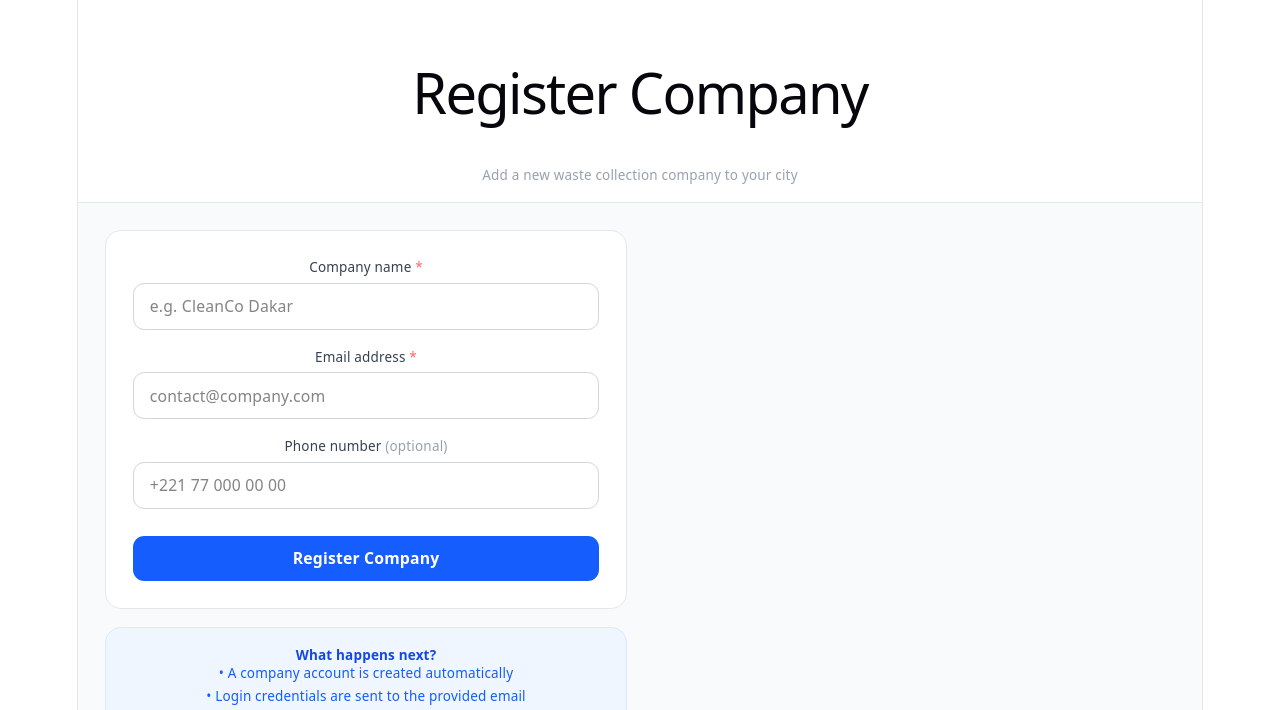
Test: CompanyRegistrationPage — US-M08 company registration › shows error message on 409 conflict
In the field with test id "input-name": point(366, 306) top-left (133, 283), bottom-right (599, 330), type "CleanCo"
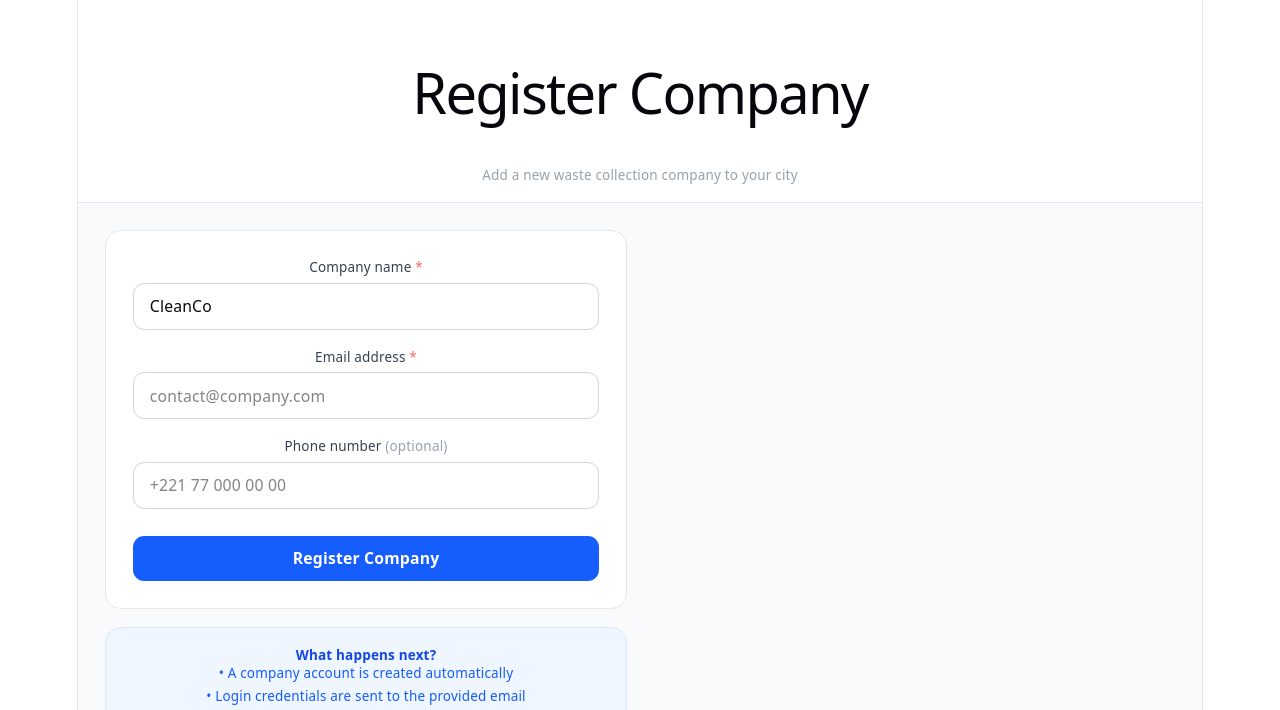
In the field with test id "input-email": point(366, 396) top-left (133, 372), bottom-right (599, 420), type "existing@co.sn"
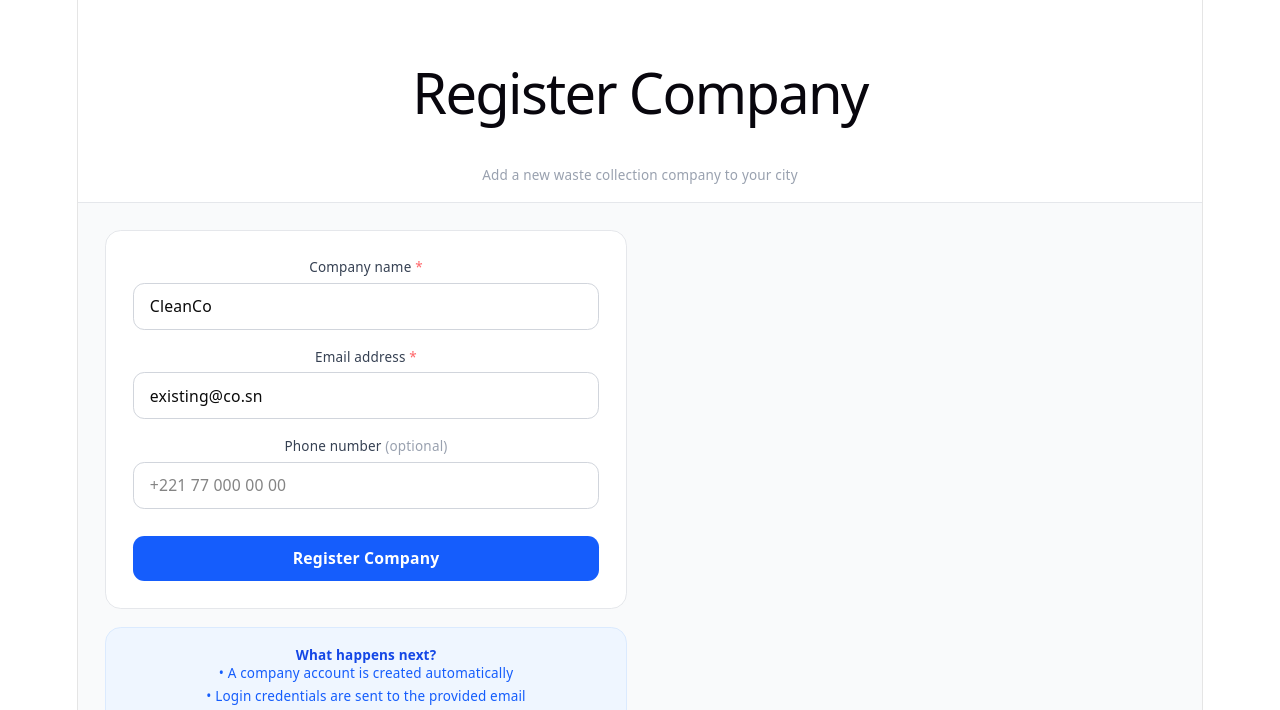
Click the button with test id "btn-submit": point(366, 559) top-left (133, 536), bottom-right (599, 581)
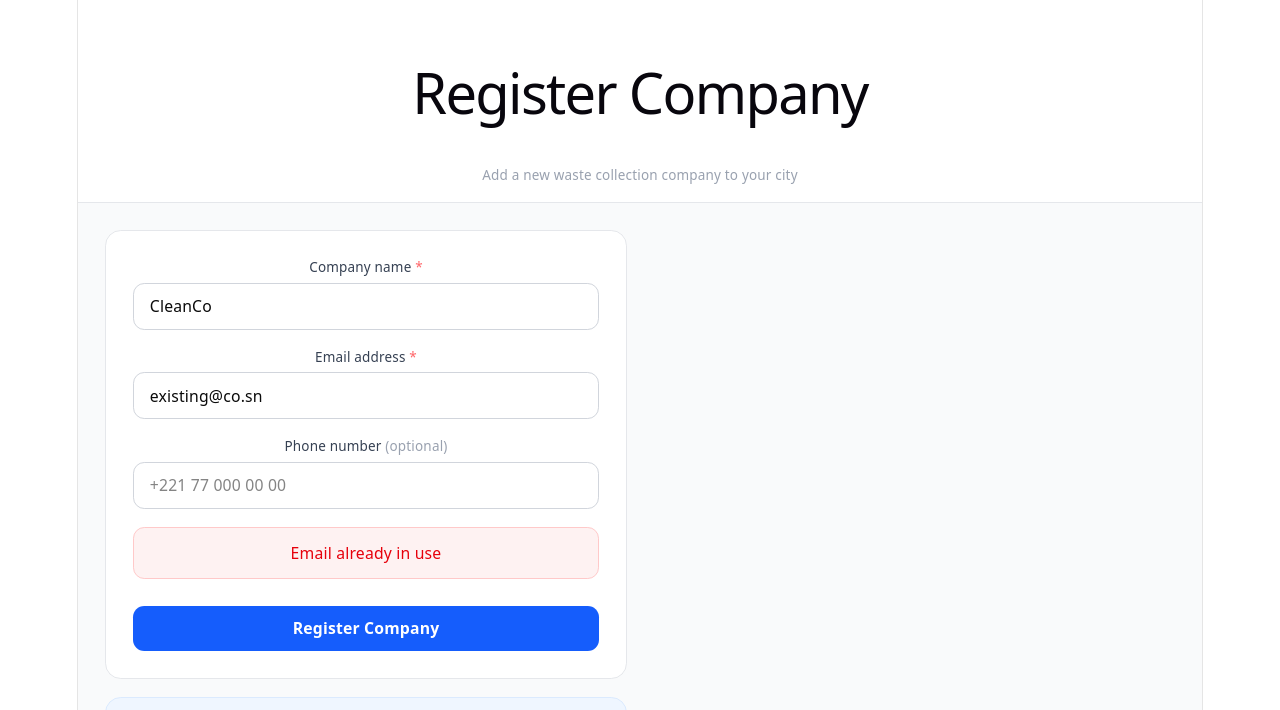
Expected: the text "Email already in use" is shown, top-left (291, 542), bottom-right (441, 564)
